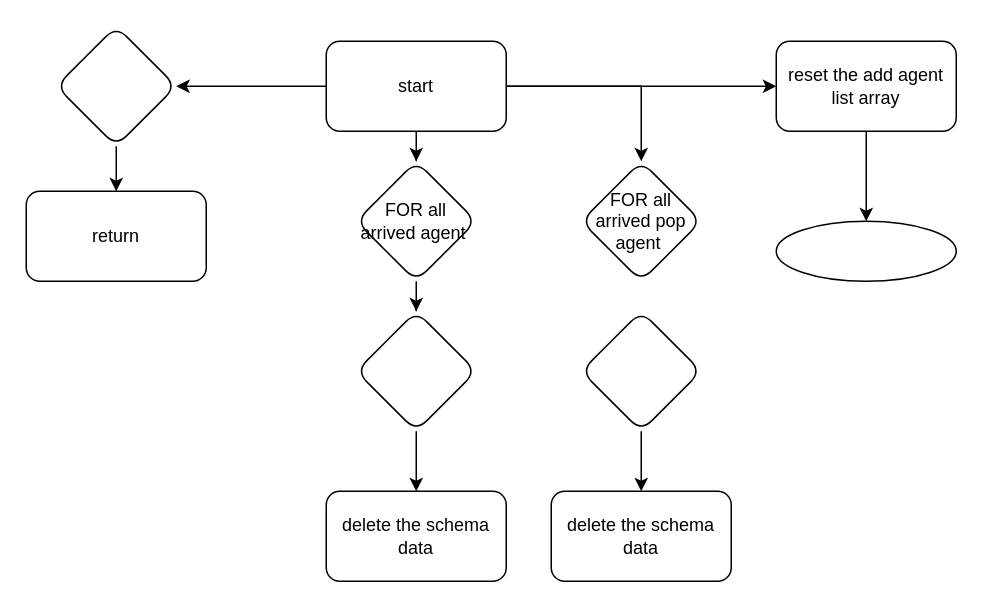
The diagram is 983 pixels wide and 608 high, and some of its shapes have lost their labels. Here are the shapes that lost their labels. From the top down, the centre of each, then its label:
the point at 115,85: IF game schema undefined
the point at 865,250: end
the point at 415,370: IF agent schema has data
the point at 640,370: IF agent schema has pop data
